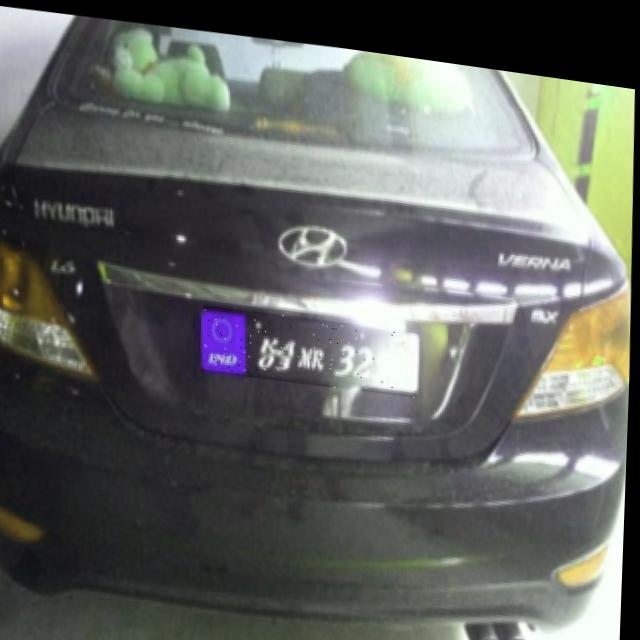license_plate: (204, 295, 421, 389)
